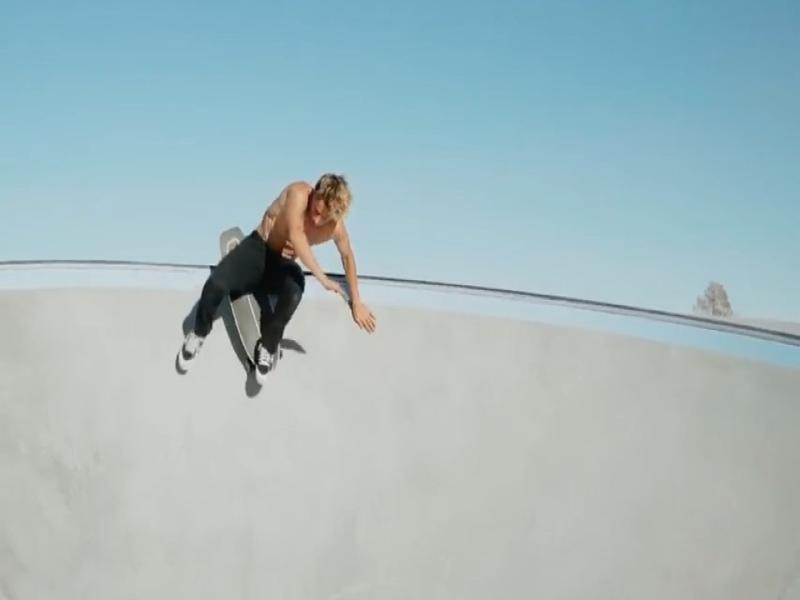person: (177, 175, 377, 383)
skate: (231, 294, 261, 364), (219, 227, 245, 257)
